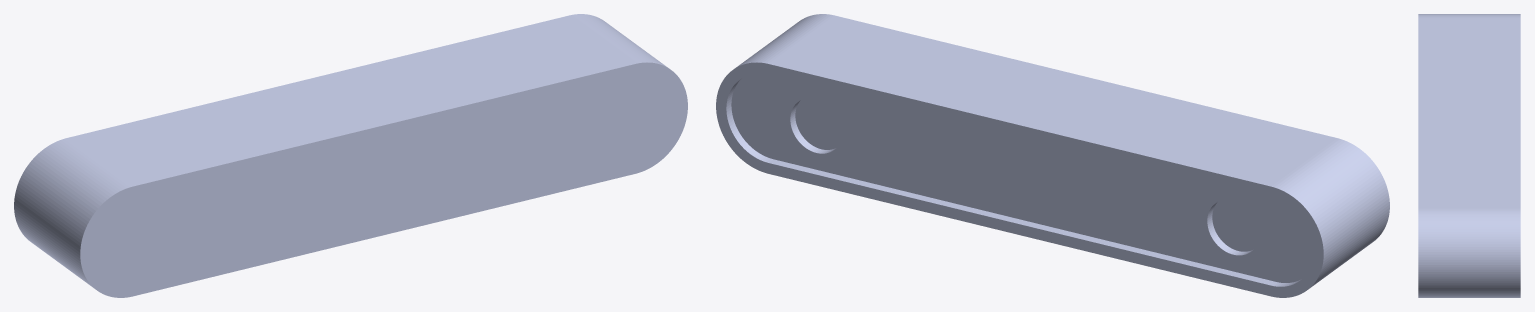
Rendered from zed.dae.
3 renders of one model, left to right at view 1: azimuth 30°, elevation 25°; view 2: azimuth 150°, elevation 25°; view 3: azimuth 270°, elevation 25°, orthographic. The views are drawn at different scales.
Parts seen in each view (by area): view 1: 5eb6d4be0095eb1583347b2b; view 2: 5eb6d4be0095eb1583347b2b; view 3: 5eb6d4be0095eb1583347b2b.
Boxes of the visible parts, x1=… form: 5eb6d4be0095eb1583347b2b: x1=14, y1=14, x2=687, y2=297; 5eb6d4be0095eb1583347b2b: x1=716, y1=14, x2=1389, y2=297; 5eb6d4be0095eb1583347b2b: x1=1418, y1=14, x2=1520, y2=297.
Bounding box in the file's own units: 0.1749 × 0.033 × 0.0302.
